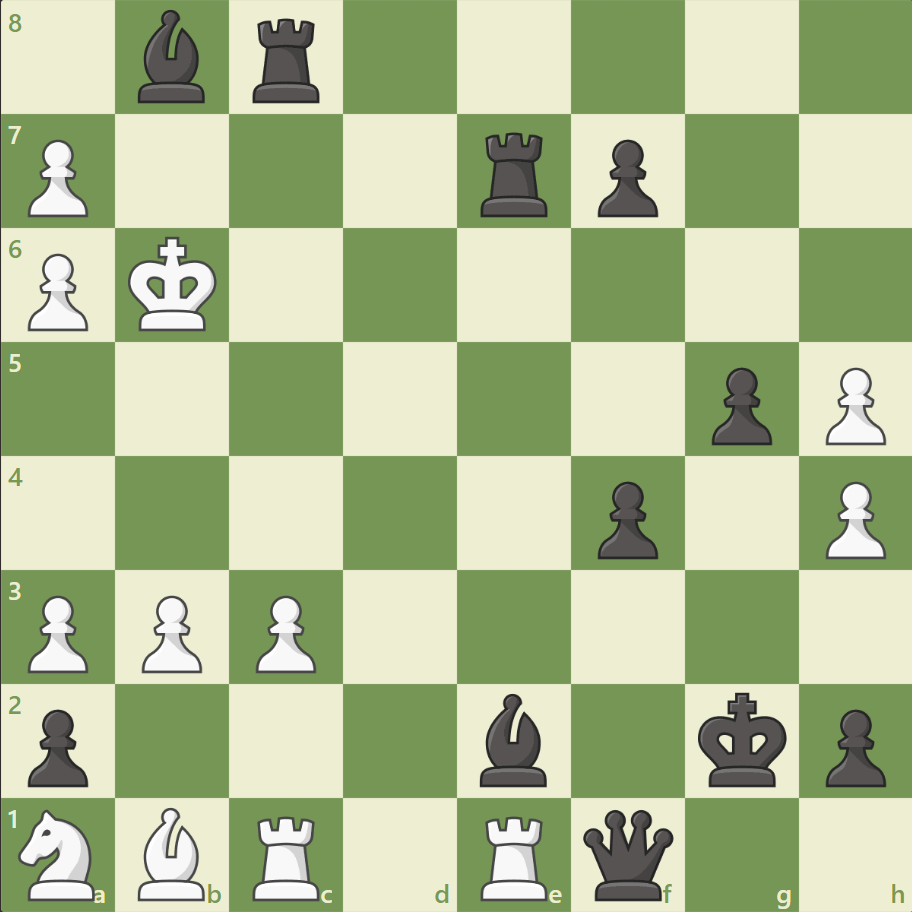B: (131, 801, 215, 904)
K: (124, 231, 224, 339)
N: (11, 802, 108, 904)
P: (20, 132, 95, 223), (20, 246, 95, 337), (20, 586, 95, 677), (133, 586, 208, 677), (247, 586, 322, 677), (815, 359, 889, 450), (815, 473, 889, 564)
R: (246, 806, 329, 904), (473, 806, 556, 904)
b: (131, 6, 215, 109), (471, 687, 555, 790)
k: (692, 685, 792, 793)
p: (701, 359, 776, 450), (20, 700, 95, 791), (588, 132, 662, 223), (588, 473, 662, 564), (815, 700, 889, 791)
q: (578, 804, 677, 903)
r: (246, 12, 329, 109), (473, 125, 556, 222)
